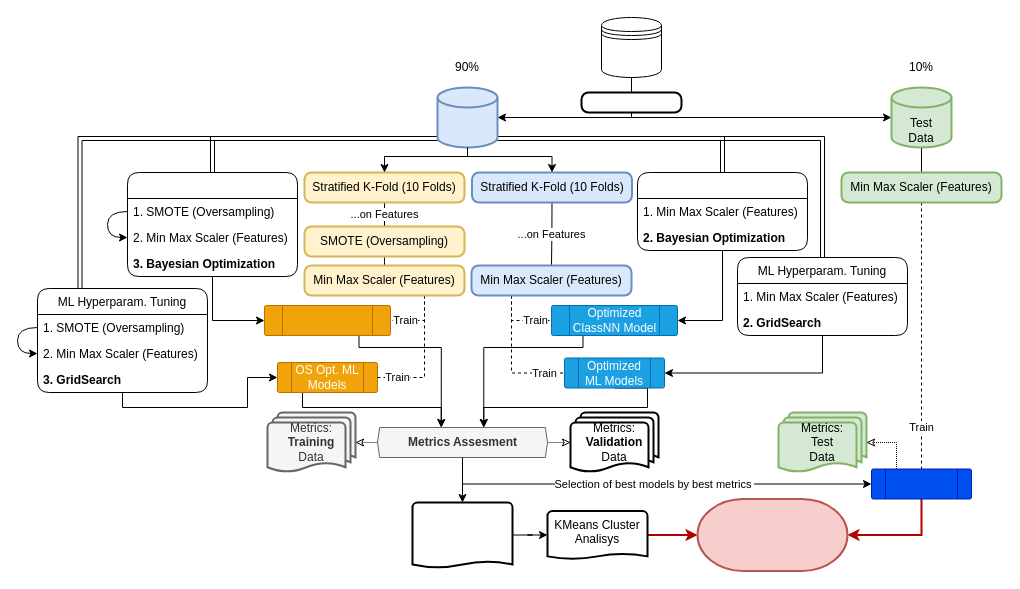
The diagram is 1020 pixels wide and 589 high, and some of its shapes have lost their labels. Each missing label, with the box of its shape:
Advise on: Feature Improvement Attrition Prediction: (696, 498, 848, 572)
Best Models: (870, 468, 972, 499)
Extract Feature Importance (Permutation): (411, 501, 513, 568)
NN Hyperparam. Tuning: (126, 172, 298, 276)
NN Hyperparam.Tuning: (636, 172, 808, 250)
Original Dataset: (600, 16, 662, 78)
OS Optimized ClassNN Model: (264, 304, 390, 336)
Preprocessing...: (580, 91, 682, 113)
Train Data: (436, 86, 498, 148)
